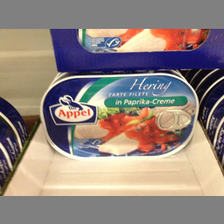fish: (41, 74, 199, 159)
